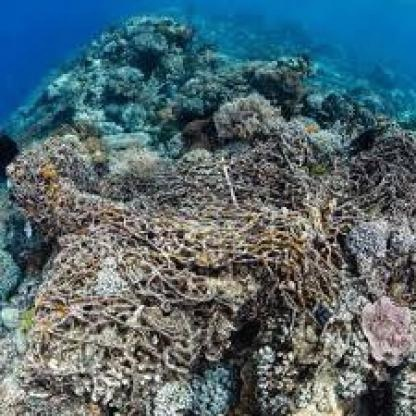net: (11, 135, 398, 385)
